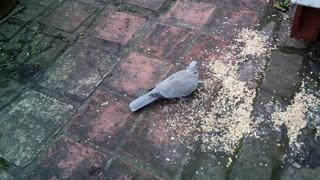collared dove: (129, 60, 199, 112)
